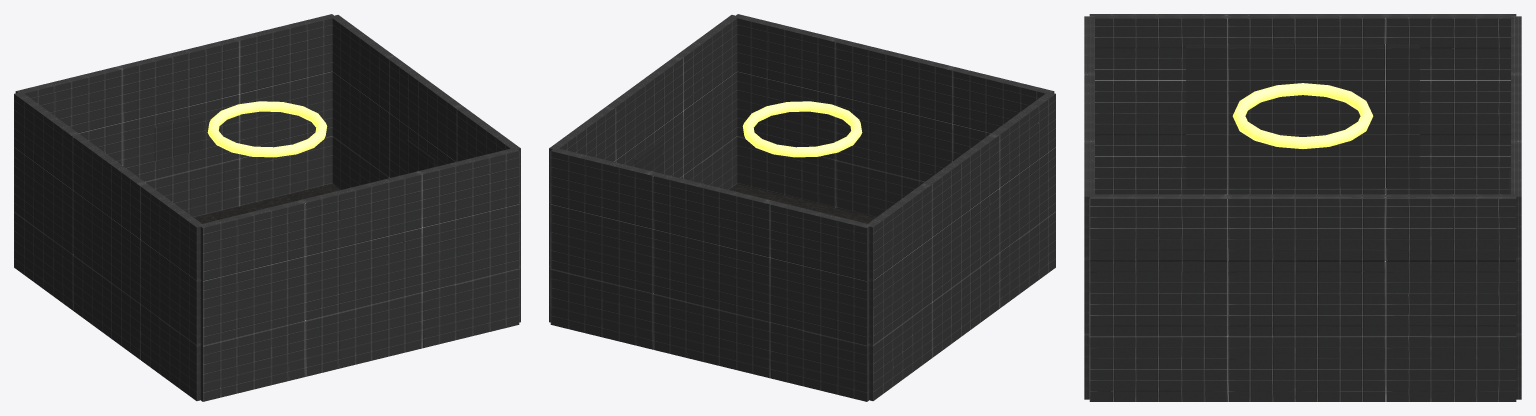
Rendered from arena.glb.
The picture shows the model from 3 angles, left to right: view 1: azimuth 30°, elevation 25°; view 2: azimuth 150°, elevation 25°; view 3: azimuth 270°, elevation 25°; orthographic projection. The views are drawn at different scales.
Parts seen in each view (by area): view 1: front_wall, back_wall, left_wall, right_wall, ceiling_decoration, info_panel_1, lobby_floor, info_panel_4; view 2: back_wall, front_wall, left_wall, right_wall, ceiling_decoration, lobby_floor, info_panel_4; view 3: right_wall, left_wall, info_panel_3, ceiling_decoration, back_wall, front_wall.
Boxes of the visible parts, <box> form: front_wall: <box>199,147,519,401</box>; back_wall: <box>15,14,335,217</box>; left_wall: <box>14,92,203,400</box>; right_wall: <box>331,15,520,322</box>; ceiling_decoration: <box>207,101,327,157</box>; info_panel_1: <box>155,117,202,161</box>; lobby_floor: <box>194,184,340,223</box>; info_panel_4: <box>406,140,434,173</box>; back_wall: <box>550,147,870,401</box>; front_wall: <box>734,14,1054,217</box>; left_wall: <box>866,92,1055,400</box>; right_wall: <box>549,15,738,322</box>; ceiling_decoration: <box>742,101,862,157</box>; lobby_floor: <box>729,184,875,223</box>; info_panel_4: <box>635,140,663,173</box>; right_wall: <box>1089,194,1516,401</box>; left_wall: <box>1089,14,1516,194</box>; info_panel_3: <box>1186,45,1419,187</box>; ceiling_decoration: <box>1232,83,1373,148</box>; back_wall: <box>1511,16,1521,399</box>; front_wall: <box>1084,16,1094,399</box>.
Size of the model in its own units: 20.5 by 10.5 by 20.5.
4 materials, 2 textured.
